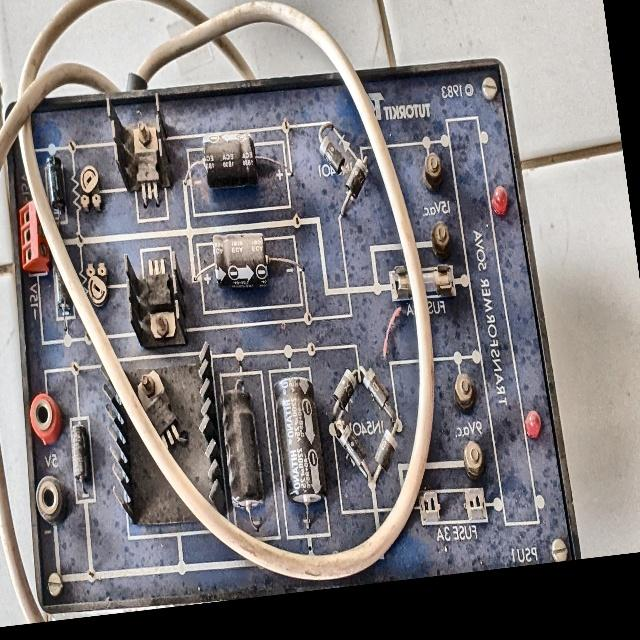Tutor Kit of Electronics: (0, 15, 584, 624)
